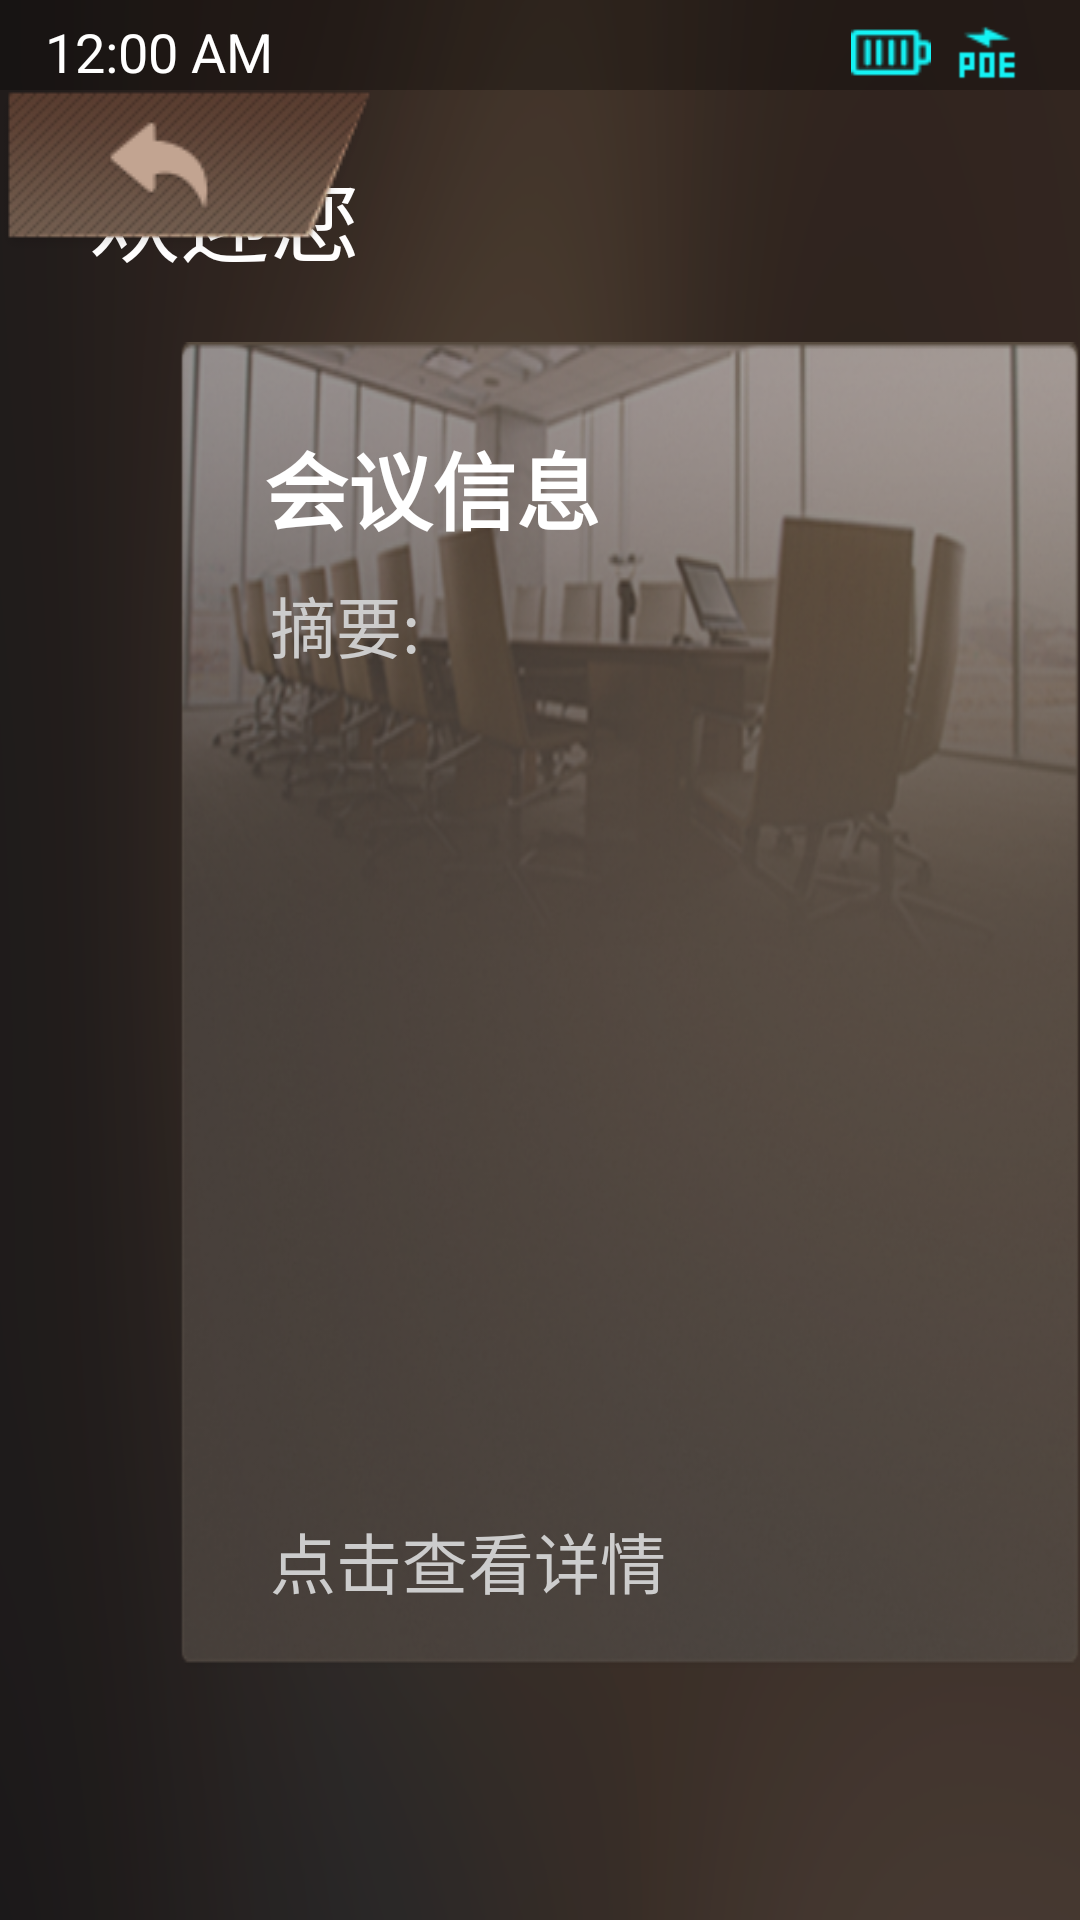

Where icons sit on this 1080px x 1920px app screen, as (x1, y1, x2, y2):
battery level list: (851, 29, 931, 76)
